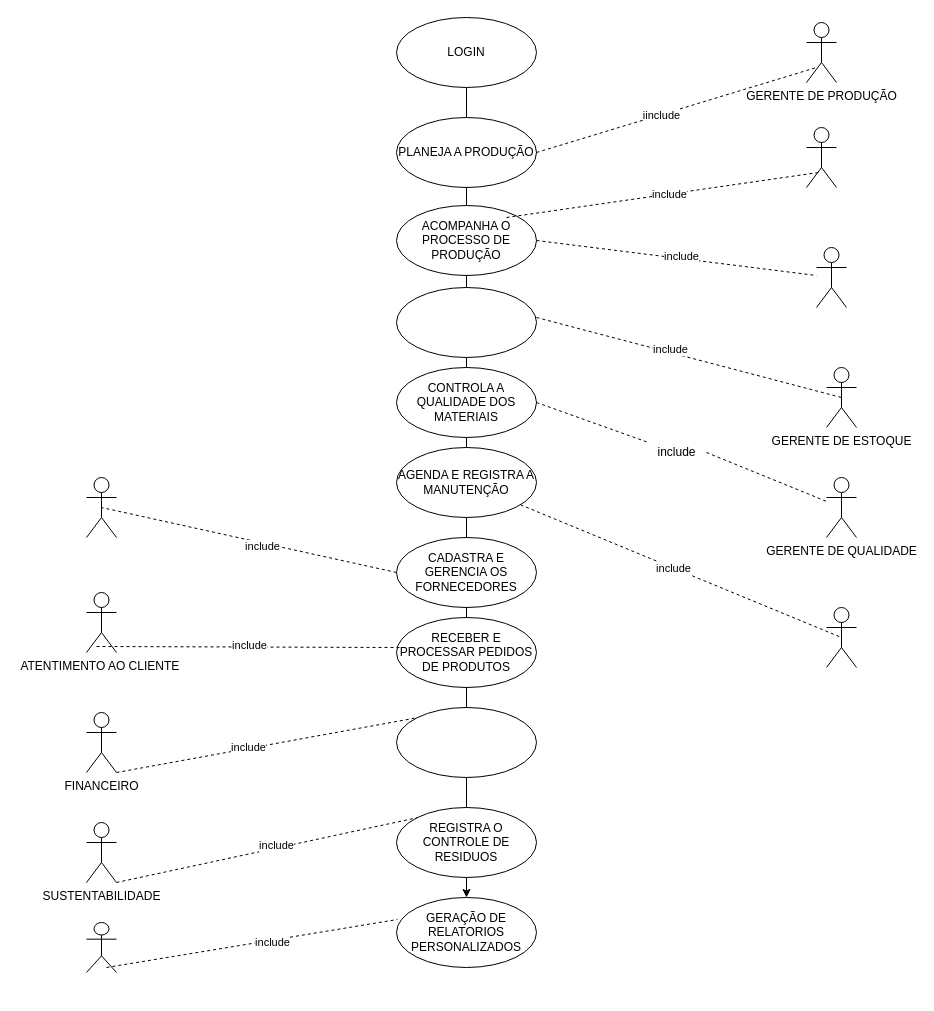
This 934x1011 diagram has some shape labels left out. The shapes that lost their labels are listed below. From the top down, each one's centre as x and y in pixels, then its label:
At point 821,157: "SUPERVISOR".
At point 831,277: "CLIENTE".
At point 466,322: "CONTROLA O ESTOQUE".
At point 101,507: "GERENTE DE SUPRIMENTOS".
At point 841,637: "GERENTE MANUTENÇÃO".
At point 466,742: "MONITORAMENTO DE CUSTOS DE PRODUÇÃO".
At point 101,947: "ANALISTA DE DADOS".
